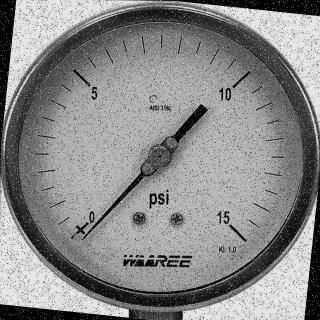gauge: (0, 0, 320, 315), (65, 204, 103, 250), (214, 207, 246, 245), (145, 142, 173, 170), (77, 230, 93, 246)
